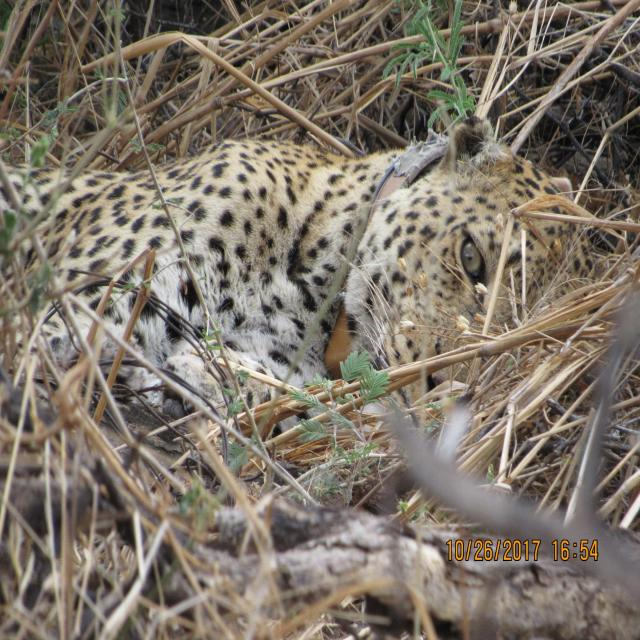Leopard: (18, 105, 584, 447)
